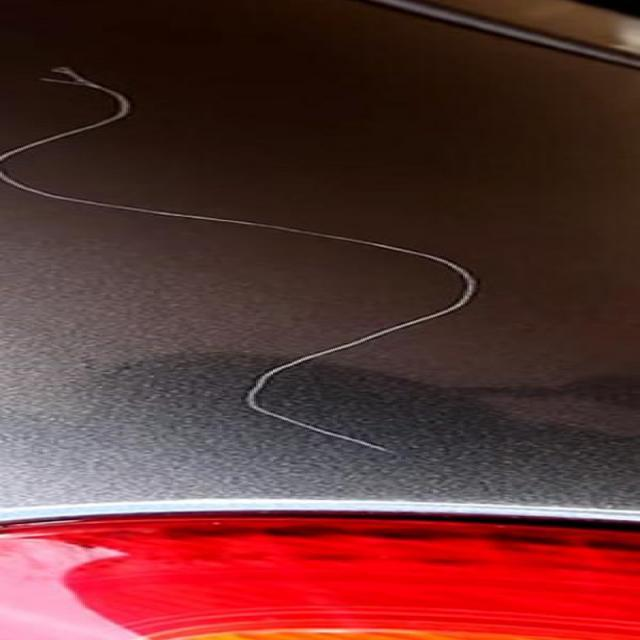scratch: (7, 62, 520, 470)
